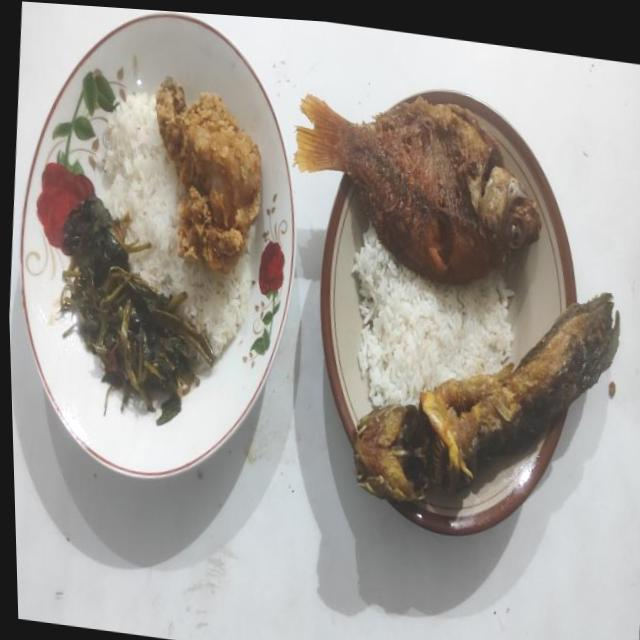ikan_mujair: (296, 94, 540, 284)
nasi_putih: (100, 92, 251, 350), (352, 226, 513, 408)
tumis_kangkung: (60, 195, 214, 424)
